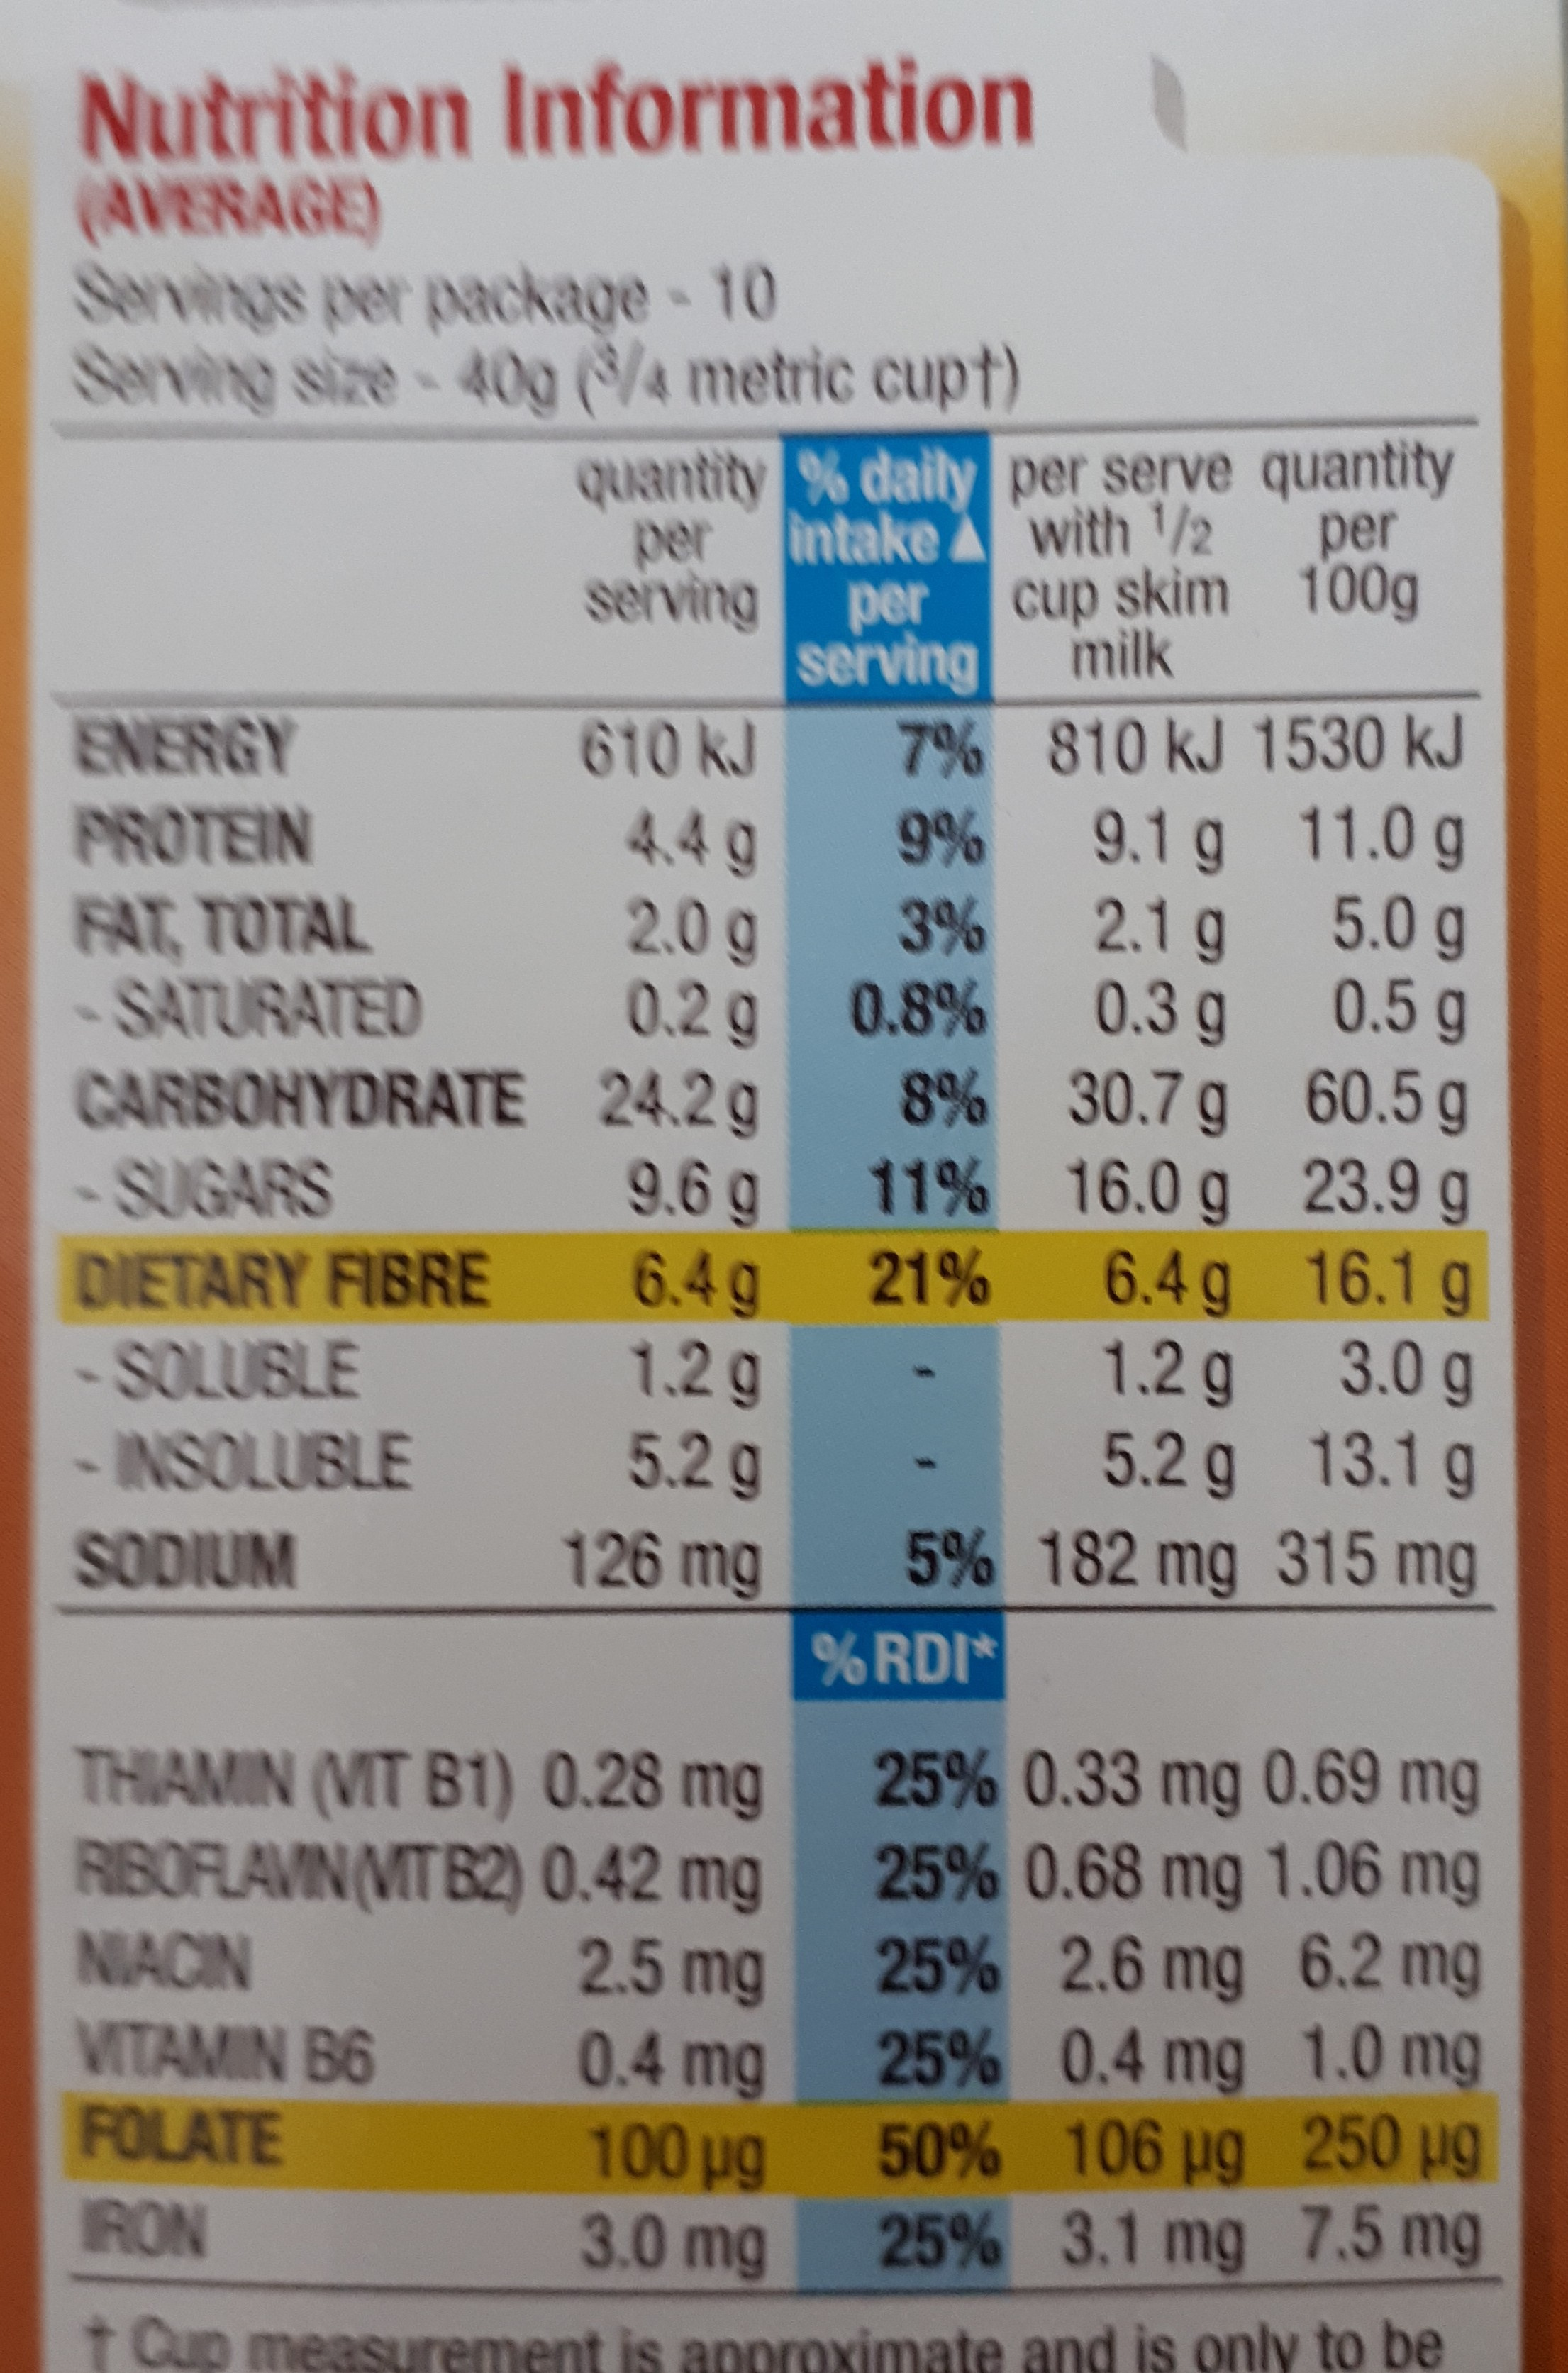column: (65, 460, 528, 2263), (1018, 434, 1244, 2275), (1260, 432, 1484, 2275), (542, 437, 766, 2275), (786, 434, 999, 2284)
table: (47, 68, 1521, 2282)
